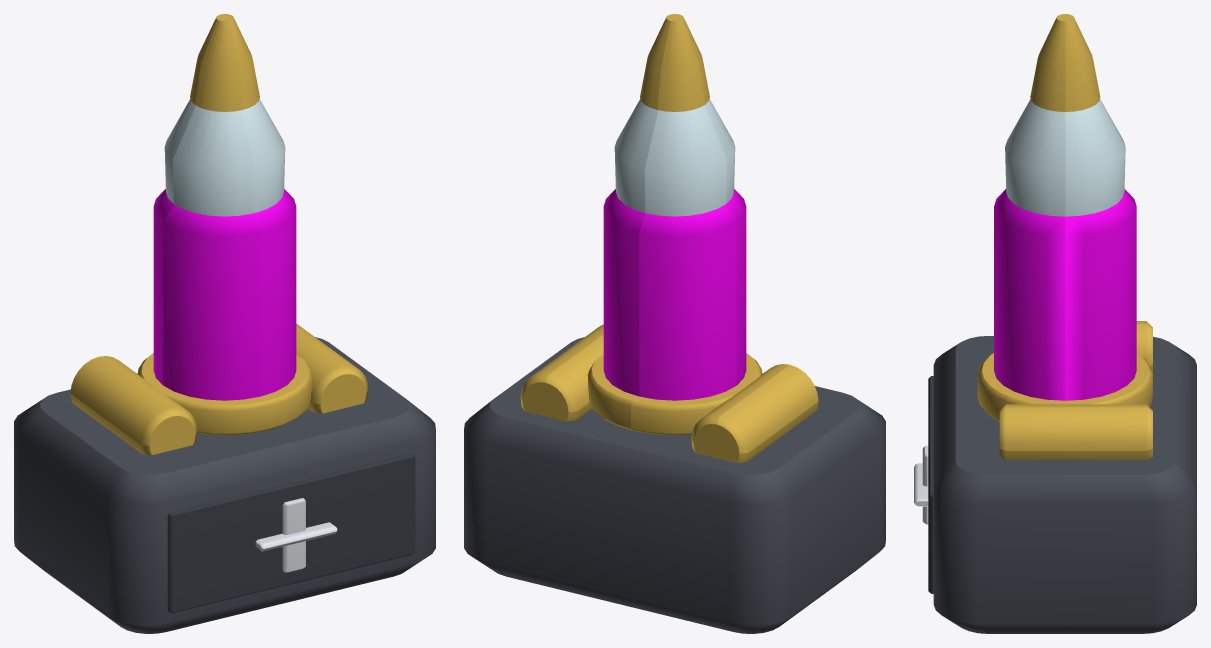
The model's file is objet_science_combat.glb.
3 views of the same model, side by side, from view 1: azimuth 30°, elevation 25°; view 2: azimuth 150°, elevation 25°; view 3: azimuth 270°, elevation 25° (orthographic).
Visible parts, largest first — view 1: science_metal_sci_sombre.010, science_teinte.012, science_teinte_sombre.002, science_laiton.004, science_verre_flacon.010, science_blanc.004; view 2: science_metal_sci_sombre.010, science_teinte.012, science_laiton.004, science_verre_flacon.010; view 3: science_metal_sci_sombre.010, science_teinte.012, science_laiton.004, science_verre_flacon.010, science_teinte_sombre.002, science_blanc.004.
Boxes of the visible parts, <box> form: science_metal_sci_sombre.010: <box>14,337,435,633</box>; science_teinte.012: <box>153,189,296,400</box>; science_teinte_sombre.002: <box>167,453,415,612</box>; science_laiton.004: <box>70,14,368,455</box>; science_verre_flacon.010: <box>164,99,285,216</box>; science_blanc.004: <box>255,498,337,572</box>; science_metal_sci_sombre.010: <box>464,337,885,633</box>; science_teinte.012: <box>603,189,746,400</box>; science_laiton.004: <box>520,14,818,463</box>; science_verre_flacon.010: <box>614,99,735,216</box>; science_metal_sci_sombre.010: <box>933,336,1196,633</box>; science_teinte.012: <box>994,189,1136,400</box>; science_laiton.004: <box>977,14,1152,459</box>; science_verre_flacon.010: <box>1005,99,1125,216</box>; science_teinte_sombre.002: <box>928,376,933,593</box>; science_blanc.004: <box>914,445,928,524</box>.
Bounding box in the file's own units: 0.17 × 0.275 × 0.129.
